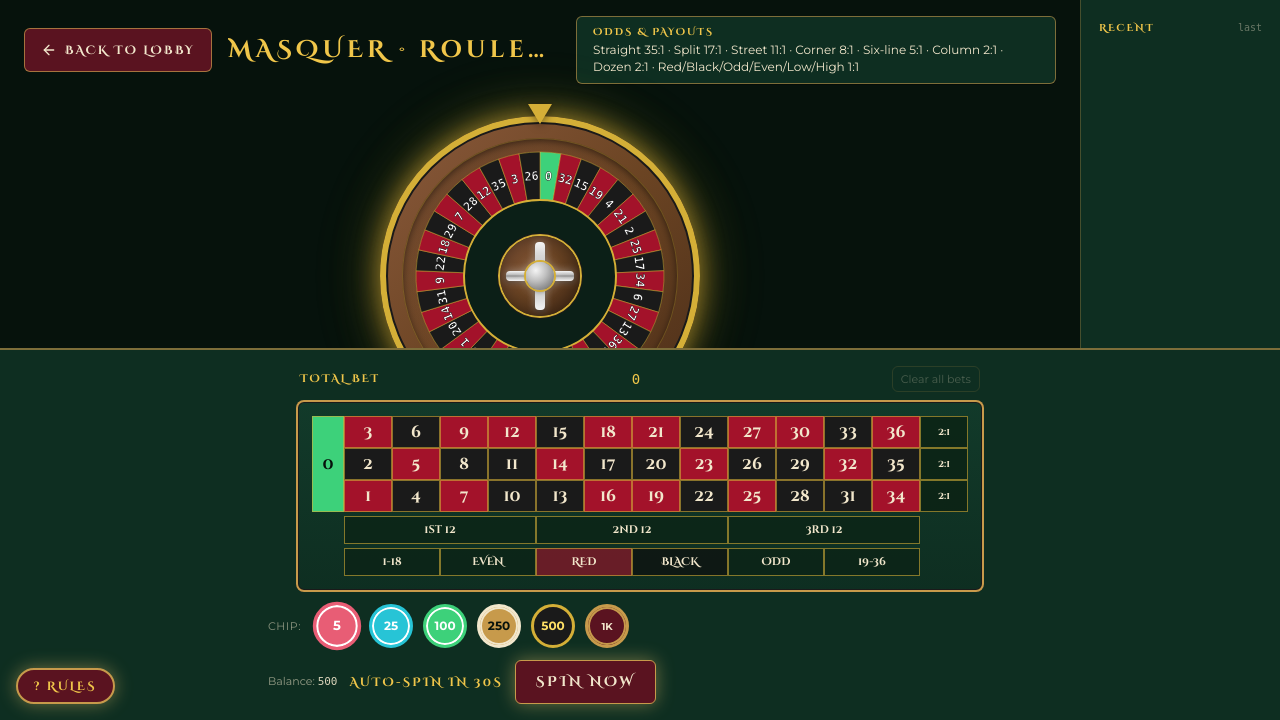
<RoulettePage /> rules-modal pause / resume › opening the rules modal opens the dialog (PAUSE_TIMER is wired)
Expected: the text "Auto-spin in 30s" is shown, [350, 674, 503, 690]
Click the button with aria-label "show game rules". click: (65, 686)
box: [16, 668, 115, 704]
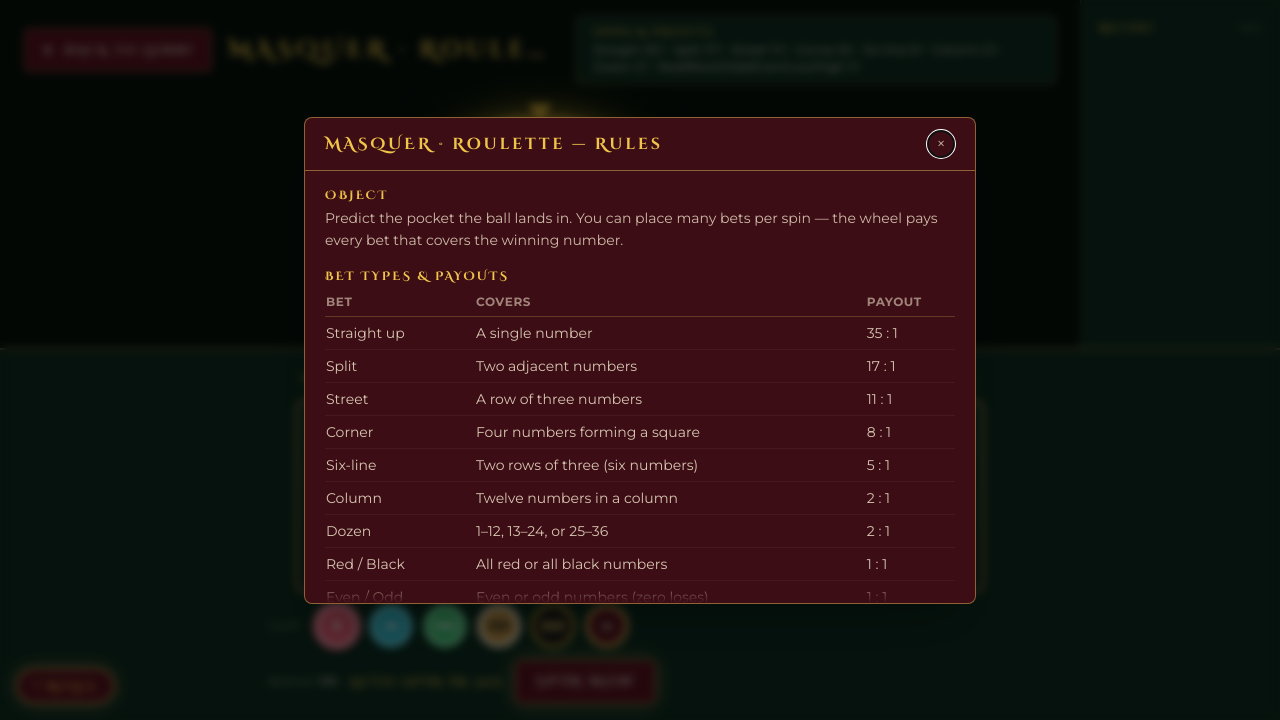
Now the dialog is shown, box [304, 116, 976, 604]
